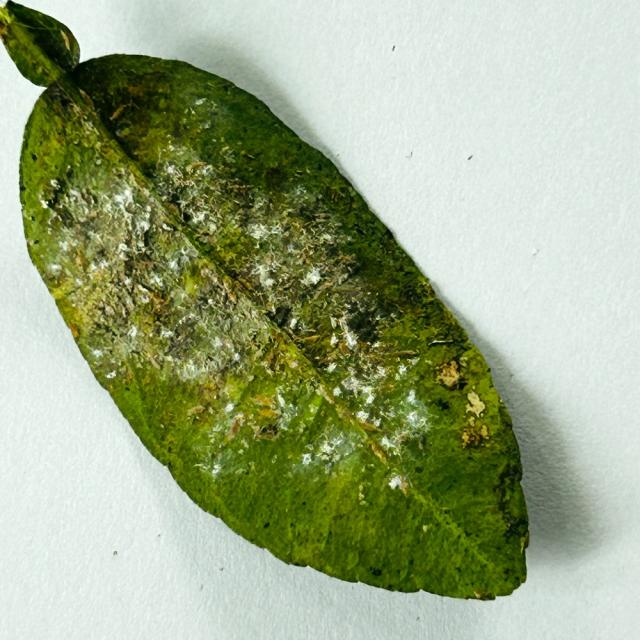Bacterial_Blight: (161, 161, 226, 229), (90, 281, 141, 336), (457, 381, 492, 449), (356, 337, 410, 369), (244, 391, 284, 429), (187, 383, 223, 424), (252, 404, 287, 445), (263, 343, 302, 376), (265, 328, 290, 354), (437, 363, 460, 388), (220, 278, 240, 305), (39, 179, 61, 203), (193, 107, 215, 131), (368, 439, 389, 463), (316, 383, 337, 405), (109, 102, 132, 122), (253, 264, 274, 285), (191, 406, 212, 426), (356, 417, 382, 433), (263, 348, 279, 372), (466, 390, 484, 411), (251, 394, 276, 408), (228, 416, 243, 439), (146, 290, 165, 308), (233, 275, 252, 292), (226, 183, 250, 194), (467, 403, 484, 418), (148, 352, 163, 369), (219, 147, 236, 162), (66, 321, 80, 339), (300, 334, 324, 344), (398, 476, 410, 495), (338, 340, 352, 356), (122, 367, 134, 385), (188, 161, 208, 171), (86, 208, 102, 220), (239, 150, 257, 160), (318, 356, 333, 367), (74, 253, 84, 268), (114, 129, 126, 141), (358, 486, 366, 502), (461, 432, 470, 446), (321, 233, 333, 243), (304, 253, 313, 265), (137, 284, 149, 293), (330, 316, 338, 329), (221, 146, 231, 154), (468, 416, 476, 426), (247, 374, 255, 383), (235, 468, 245, 475), (254, 242, 261, 250), (295, 170, 304, 176)
Lemon: (0, 2, 531, 604)
